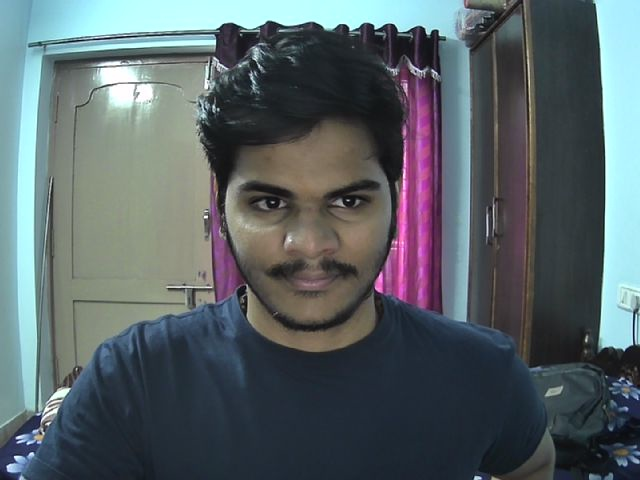NoMask: (225, 220, 393, 334)
